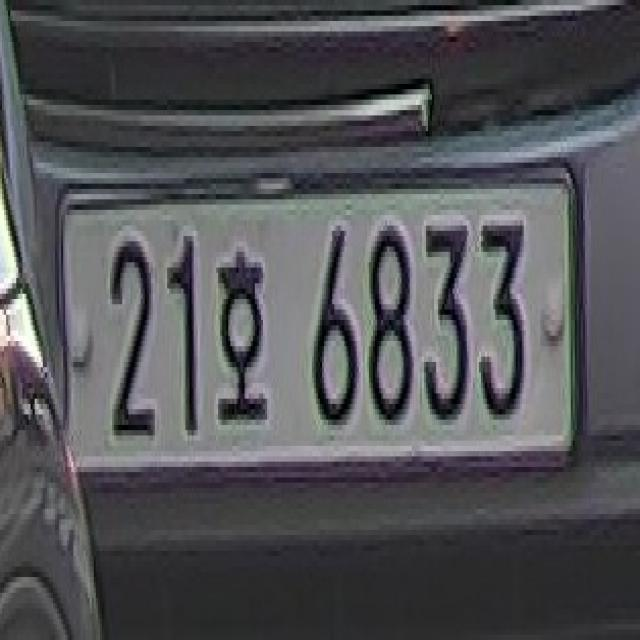1: (164, 213, 205, 444)
2: (101, 227, 159, 442)
3: (475, 204, 533, 434), (422, 194, 471, 440)
6: (307, 215, 362, 434)
8: (366, 208, 418, 432)
ho: (211, 236, 275, 437)
license_plate: (61, 176, 578, 452)
